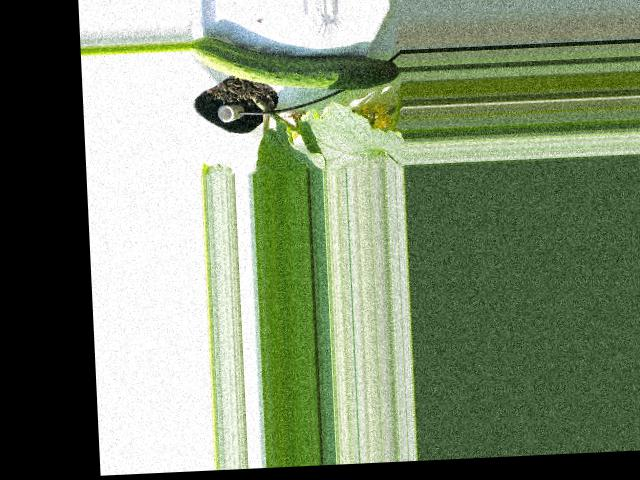cucumber: (187, 28, 401, 96)
